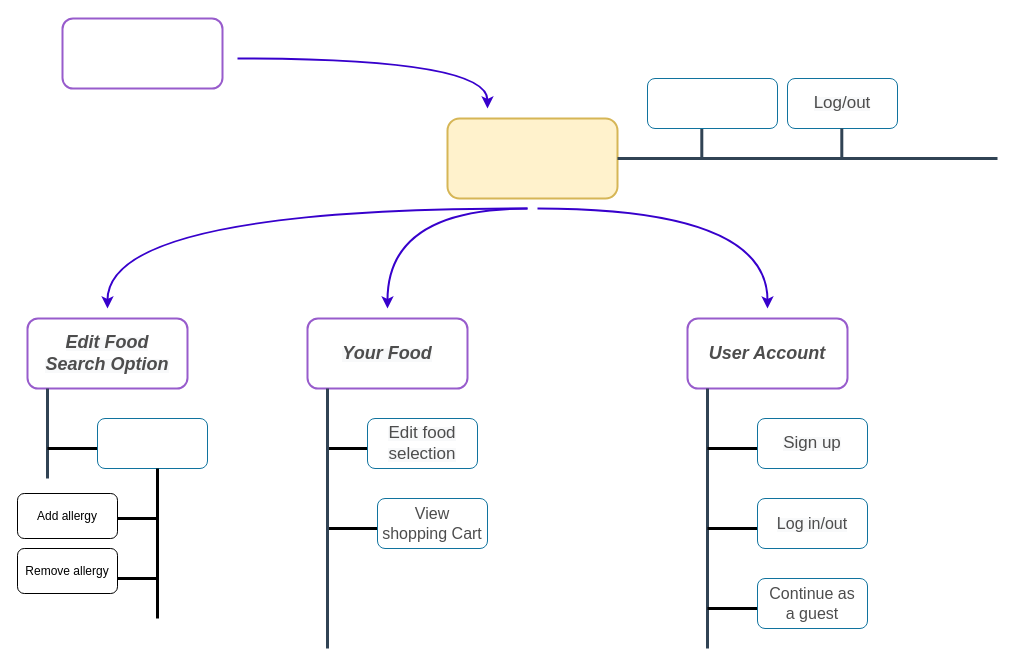
Some shapes in this 1017 by 668 pixel diagram are drawn without their labels. The centre of each missing label's shape, as x and y in pixels:
Edit allergy selection: the point at 152,443
Home( food recommendation): the point at 532,158
Intro page(select allergies if not): the point at 142,53
Recommended product: the point at 712,103
